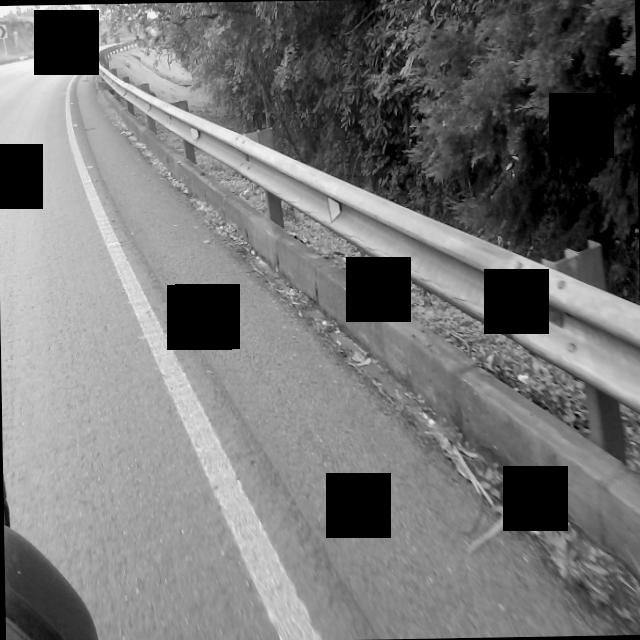DITCH: (3, 23, 640, 640), (73, 29, 640, 640), (59, 62, 640, 640)
